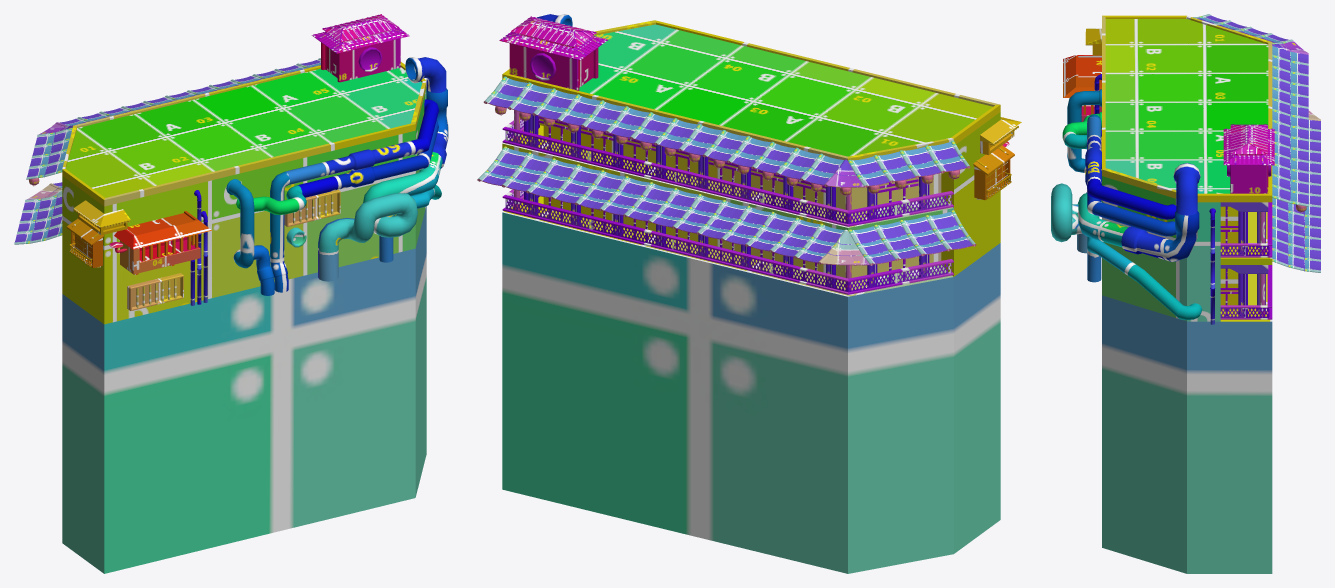
The model's file is jiufen_final_0430.FBX.
The picture shows the model from 3 angles, left to right: view 1: azimuth 30°, elevation 25°; view 2: azimuth 150°, elevation 25°; view 3: azimuth 270°, elevation 25°; orthographic projection. The views are drawn at different scales.
Visible parts, largest first — view 1: Jiufen; view 2: Jiufen; view 3: Jiufen.
Boxes of the visible parts, box(x1,y1,x2,y2) form: Jiufen: box(14, 14, 448, 573); Jiufen: box(477, 14, 1021, 573); Jiufen: box(1051, 14, 1320, 573).
Bounding box in the file's own units: 2315 × 2209 × 1277.
1 material, 1 textured.
